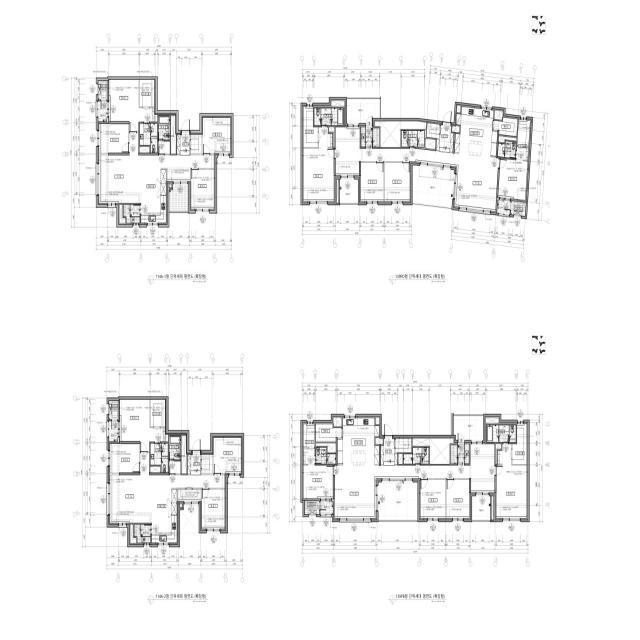space_balconi: (413, 165, 454, 207), (378, 482, 418, 520), (347, 99, 380, 123), (454, 417, 483, 440), (169, 186, 188, 211), (472, 496, 490, 520), (340, 179, 358, 203), (451, 444, 469, 464), (361, 127, 379, 147), (123, 205, 140, 223), (134, 525, 151, 543), (497, 200, 511, 215), (98, 101, 107, 122), (109, 421, 118, 441), (320, 502, 333, 514)
space_bedroom: (109, 80, 154, 132), (120, 400, 165, 452), (496, 444, 527, 518), (303, 127, 334, 201), (303, 448, 333, 498), (498, 158, 528, 200), (203, 117, 231, 153), (214, 437, 242, 473), (420, 480, 445, 518), (385, 163, 410, 201), (191, 170, 215, 209), (202, 490, 226, 529), (446, 480, 469, 518), (361, 163, 384, 201), (99, 124, 128, 153), (110, 444, 139, 473)
space_dressroom: (512, 424, 527, 464), (303, 107, 318, 147), (516, 119, 530, 161), (140, 80, 155, 107), (150, 400, 165, 427), (303, 424, 315, 447)
space_front: (436, 122, 454, 153), (381, 436, 398, 465), (188, 453, 201, 475), (177, 135, 190, 155)
space_kitchen: (455, 106, 498, 157), (337, 418, 379, 465), (141, 169, 166, 223), (152, 489, 177, 543)
space_living_room: (335, 127, 499, 211), (335, 444, 495, 518), (110, 453, 226, 523), (99, 133, 215, 203)
space_other: (375, 121, 426, 147), (413, 439, 453, 464), (494, 117, 518, 137), (316, 424, 342, 442), (167, 168, 190, 182), (178, 489, 201, 501), (395, 439, 412, 453), (511, 201, 526, 216), (426, 123, 440, 139), (191, 135, 202, 154), (202, 454, 213, 473), (316, 443, 336, 453), (171, 116, 176, 154), (182, 436, 187, 474), (169, 461, 181, 474), (158, 142, 170, 154), (499, 136, 517, 143), (119, 205, 125, 224), (425, 139, 436, 149), (130, 525, 136, 543), (496, 444, 501, 464), (329, 127, 334, 147), (494, 110, 503, 120), (486, 418, 499, 424), (334, 418, 342, 427), (491, 496, 494, 520), (332, 101, 344, 107), (452, 126, 460, 133), (337, 179, 339, 203), (376, 438, 383, 444), (399, 454, 403, 464), (457, 106, 461, 113), (376, 418, 379, 424), (155, 114, 157, 122), (166, 434, 168, 442), (169, 184, 171, 188), (180, 504, 182, 507)
space_outdoor_room: (305, 501, 319, 514), (98, 81, 107, 100), (109, 401, 118, 419)
space_toilet: (150, 443, 168, 473), (139, 124, 157, 153), (487, 425, 516, 442), (314, 108, 343, 125), (404, 448, 429, 464), (402, 131, 424, 147), (498, 141, 516, 159), (316, 448, 336, 464), (169, 436, 181, 461), (158, 116, 170, 140)
